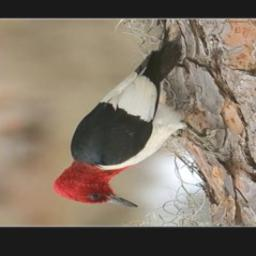Woodpecker: (49, 30, 228, 212)
